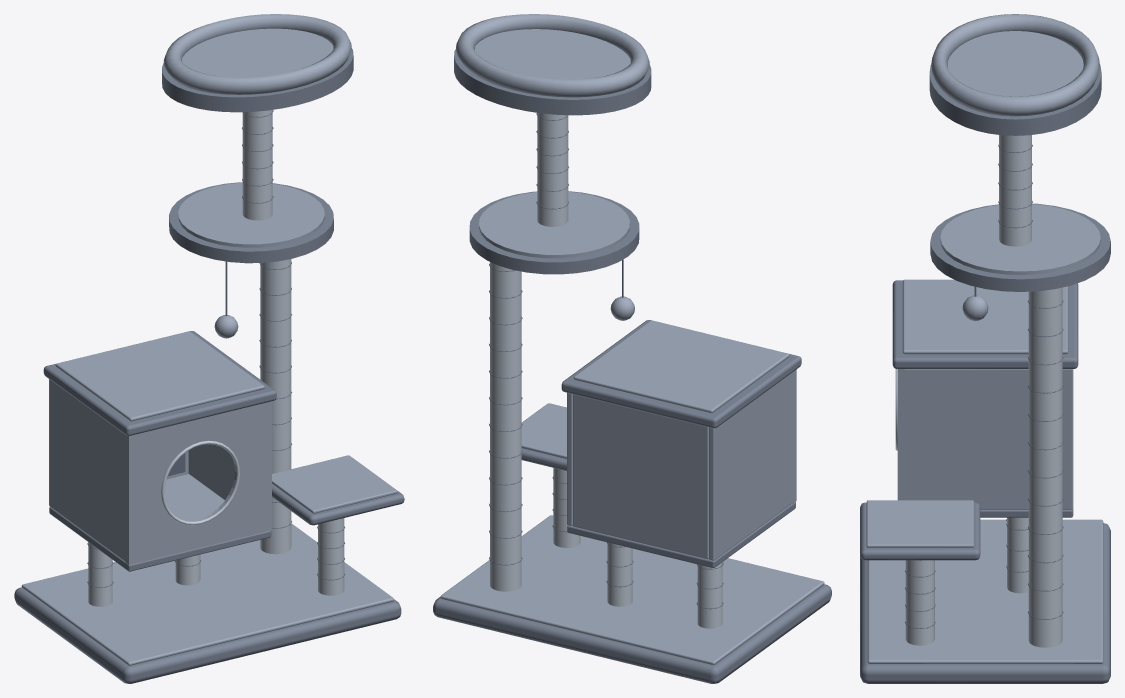
Rendered from cat-tree-lite.glb.
The picture shows the model from 3 angles, left to right: view 1: azimuth 30°, elevation 25°; view 2: azimuth 150°, elevation 25°; view 3: azimuth 270°, elevation 25°; orthographic projection. The views are drawn at different scales.
Parts seen in each view (by area): view 1: cat-tree-soft, cat-tree-frame, cat-tree-rope, cat-tree-dark; view 2: cat-tree-soft, cat-tree-frame, cat-tree-rope, cat-tree-dark; view 3: cat-tree-soft, cat-tree-frame, cat-tree-rope, cat-tree-dark.
Part boxes in pixels (bbox=[...]): cat-tree-soft: bbox=[21, 14, 397, 665]; cat-tree-frame: bbox=[14, 48, 404, 683]; cat-tree-rope: bbox=[88, 110, 344, 606]; cat-tree-dark: bbox=[87, 110, 344, 587]; cat-tree-soft: bbox=[440, 14, 824, 665]; cat-tree-frame: bbox=[433, 49, 831, 683]; cat-tree-rope: bbox=[490, 113, 722, 628]; cat-tree-dark: bbox=[489, 113, 723, 609]; cat-tree-soft: bbox=[866, 14, 1103, 663]; cat-tree-frame: bbox=[860, 65, 1110, 683]; cat-tree-rope: bbox=[895, 135, 1062, 647]; cat-tree-dark: bbox=[905, 144, 1063, 628].
Size of the model in its own units: 0.73 by 1.3 by 0.5.
